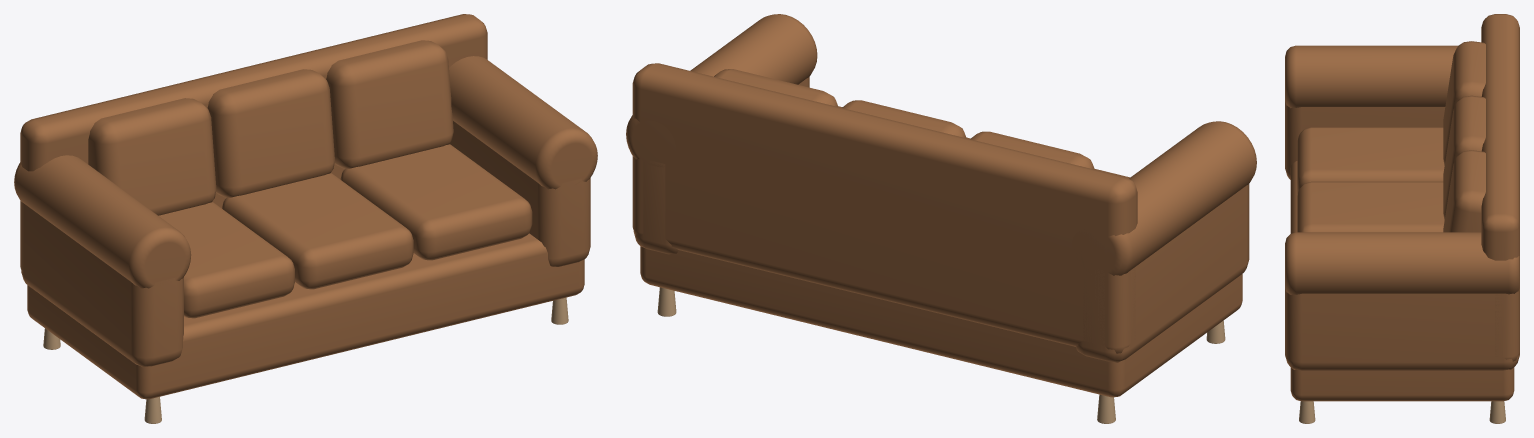
File: industrial.workshop.seat_sofa.glb
The picture shows the model from 3 angles, left to right: view 1: azimuth 30°, elevation 25°; view 2: azimuth 150°, elevation 25°; view 3: azimuth 270°, elevation 25°; orthographic projection. The views are drawn at different scales.
Visible parts, largest first — view 1: main__paint_964, main__timber_ca7; view 2: main__paint_964, main__timber_ca7; view 3: main__paint_964, main__timber_ca7.
Boxes of the visible parts, x1=… form: main__paint_964: x1=14, y1=14, x2=597, y2=399; main__timber_ca7: x1=43, y1=297, x2=568, y2=423; main__paint_964: x1=626, y1=14, x2=1256, y2=397; main__timber_ca7: x1=657, y1=287, x2=1225, y2=423; main__paint_964: x1=1285, y1=14, x2=1519, y2=401; main__timber_ca7: x1=1299, y1=401, x2=1505, y2=423.
Bounding box in the file's own units: 1.84 × 0.85 × 0.85.
